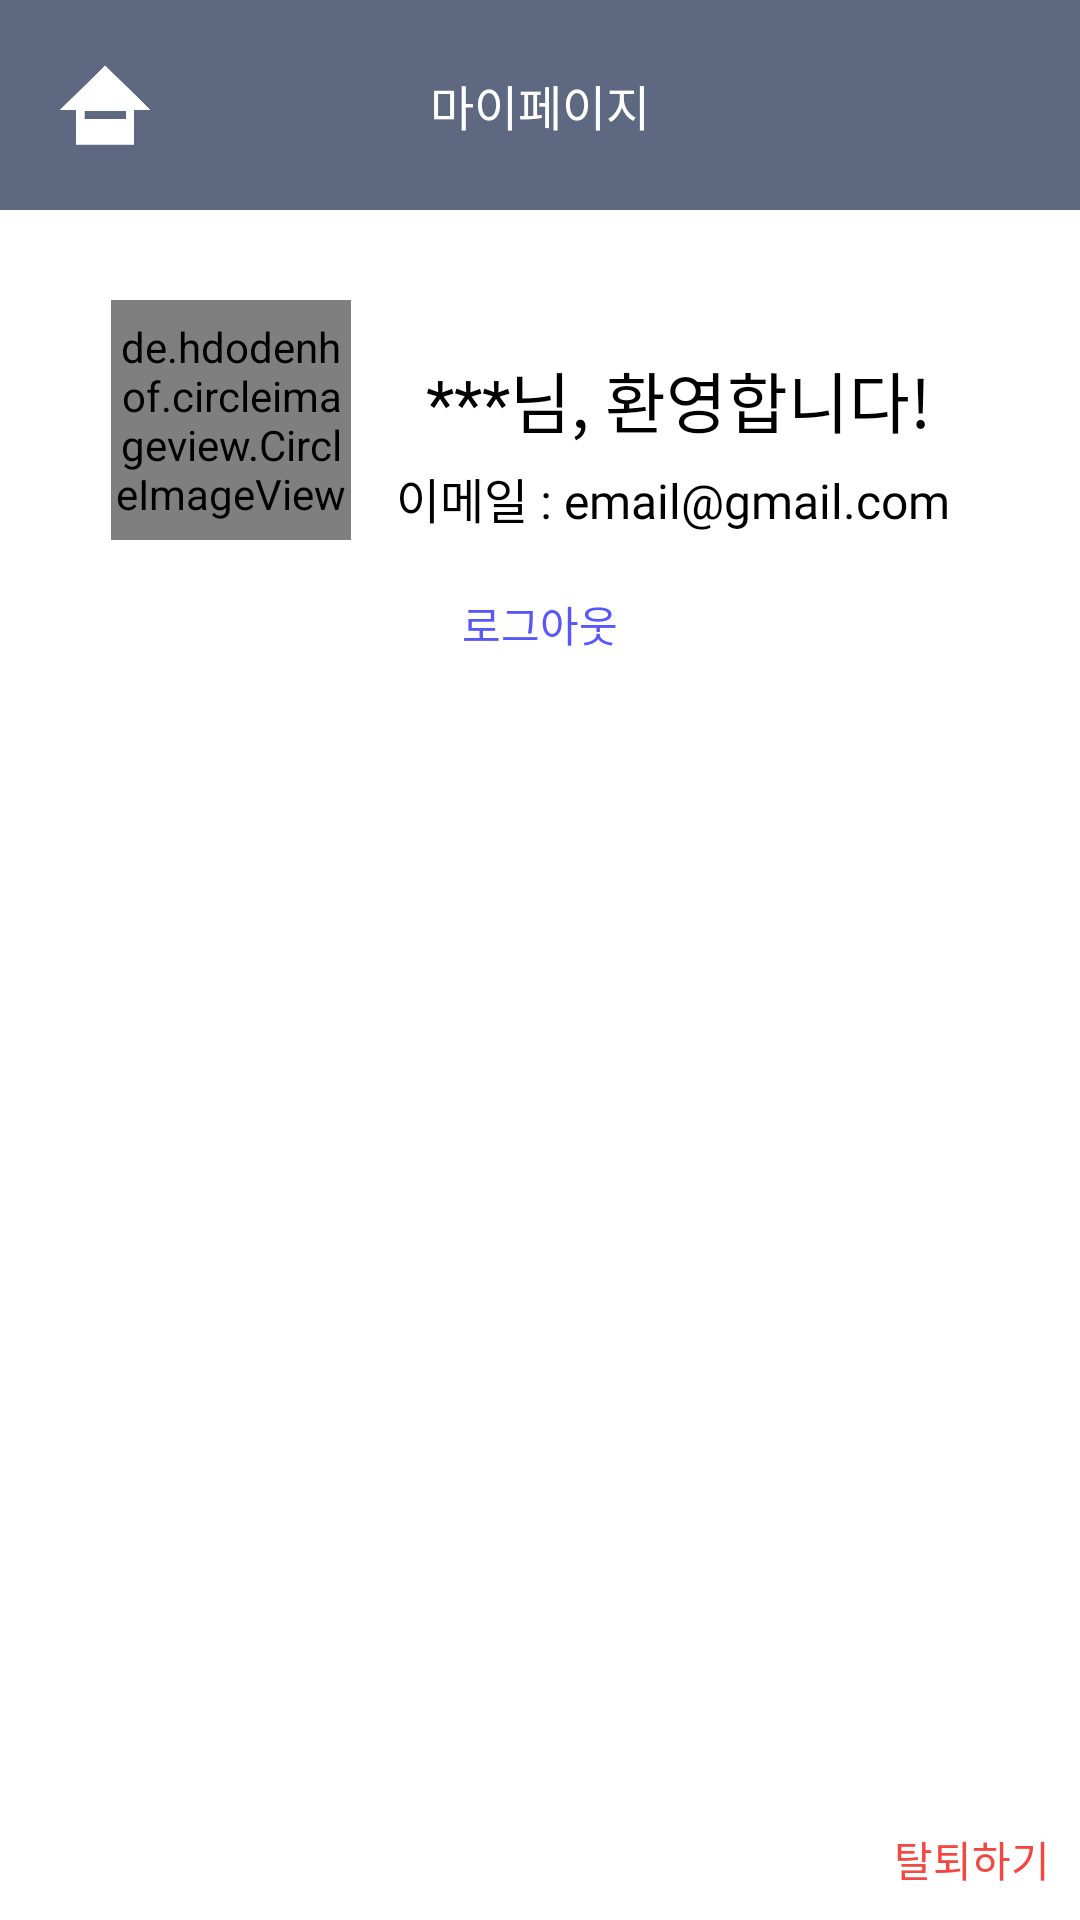

Where to tap for icons on this 1080*1920 app screen, as (x=x, y=y):
home: (x=105, y=105)
